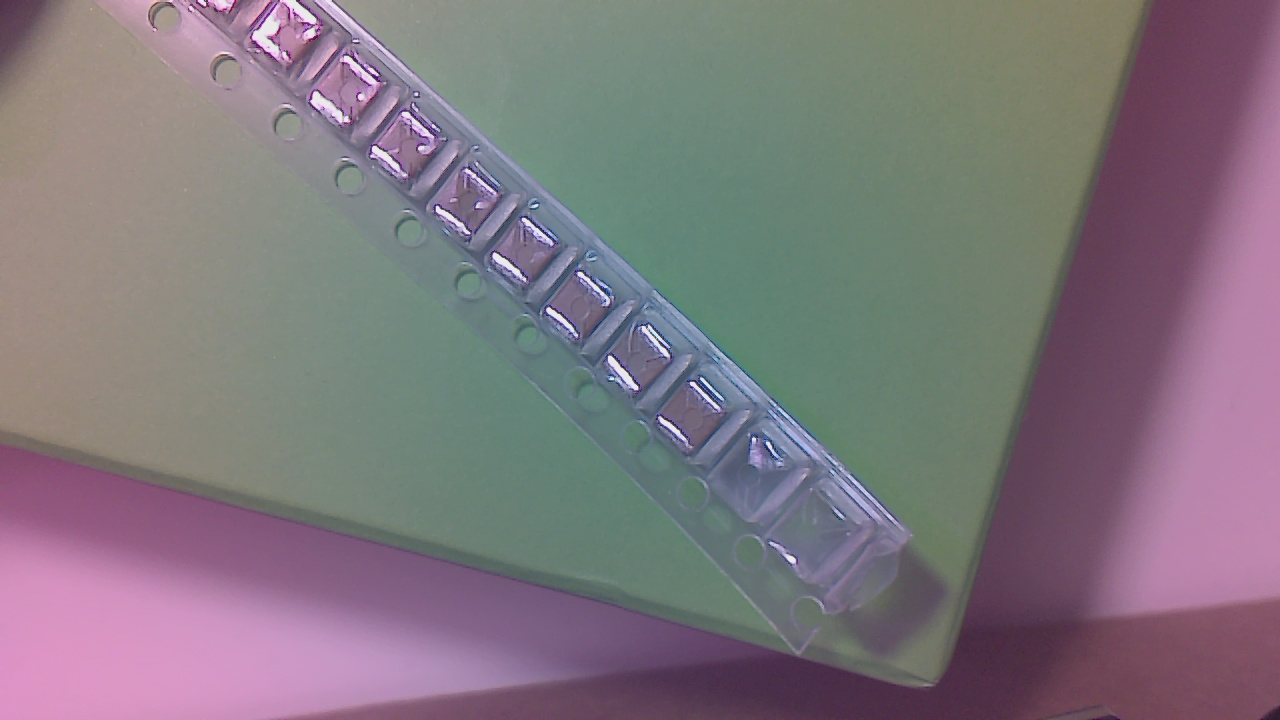Condensator: (312, 48, 389, 127), (246, 8, 333, 77), (374, 103, 443, 184), (490, 216, 566, 289), (606, 327, 682, 397), (435, 168, 506, 240), (663, 378, 727, 453), (550, 265, 610, 336)
